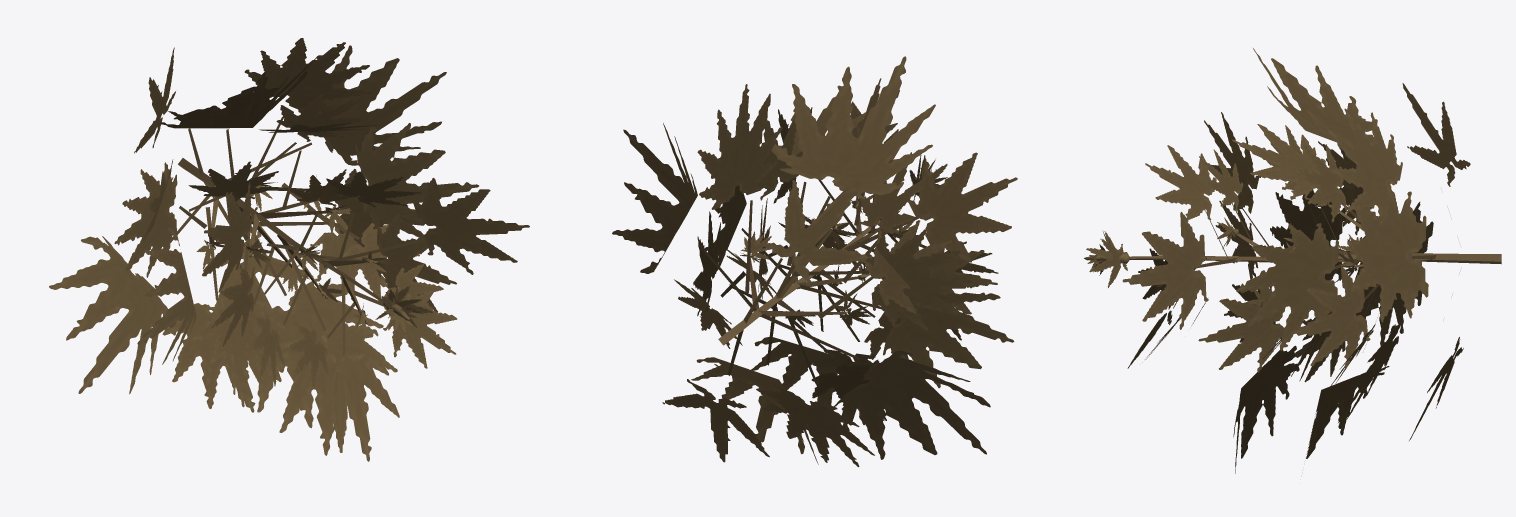
The model's file is p_haze_preflower_c3_cards.obj.
3 views of the same model, side by side, from view 1: azimuth 30°, elevation 25°; view 2: azimuth 150°, elevation 25°; view 3: azimuth 270°, elevation 25° (orthographic). The views are drawn at different scales.
Size of the model in its own units: 1.8 by 1.69 by 1.48.
Materials: 1 (1 with a texture image).
